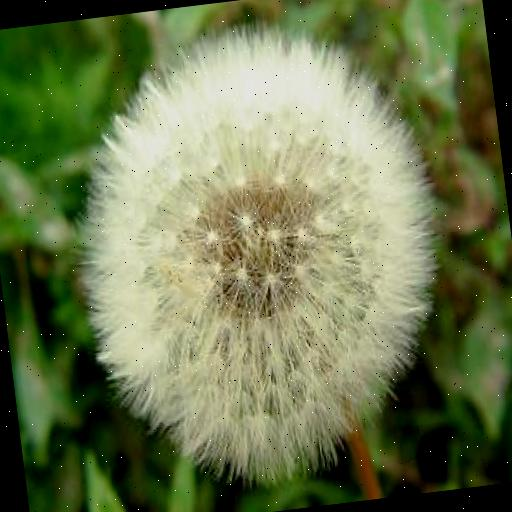dandelion: (48, 5, 460, 494)
